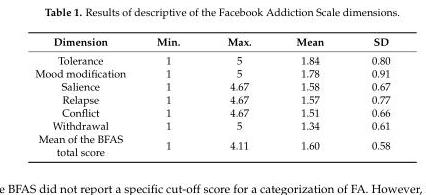table: (34, 34, 389, 157)
table column: (34, 34, 140, 157), (273, 34, 347, 157), (203, 34, 273, 157), (140, 34, 203, 157), (347, 34, 389, 157)
table column header: (34, 34, 389, 50)
table row: (34, 131, 389, 157), (34, 34, 389, 50), (34, 50, 389, 66), (34, 66, 389, 79), (34, 79, 389, 92), (34, 92, 389, 105), (34, 105, 389, 118), (34, 118, 389, 131)
